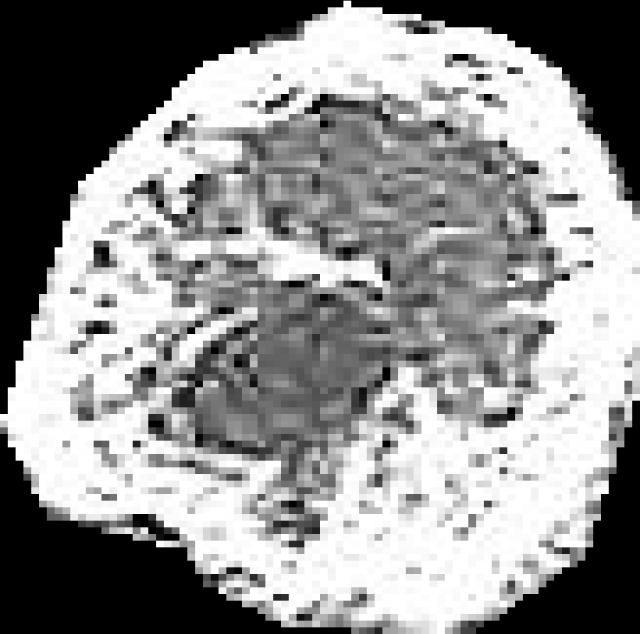tumor_good_chance: (0, 1, 640, 634)
